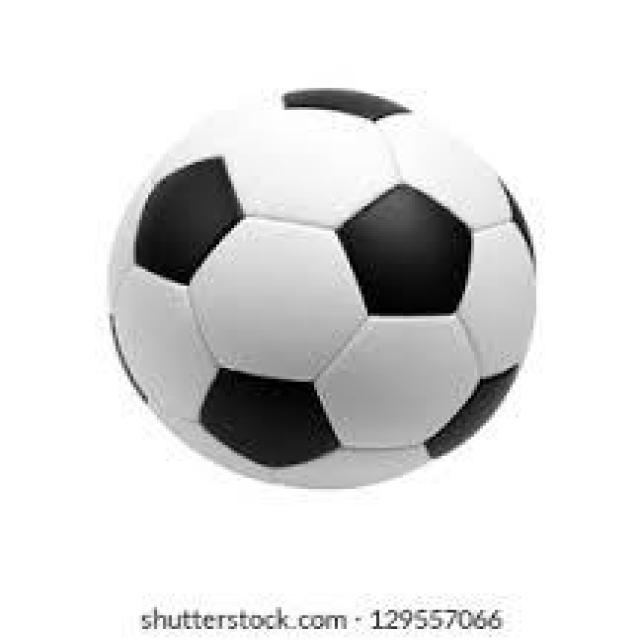Soccer Ball: (110, 85, 533, 489)
